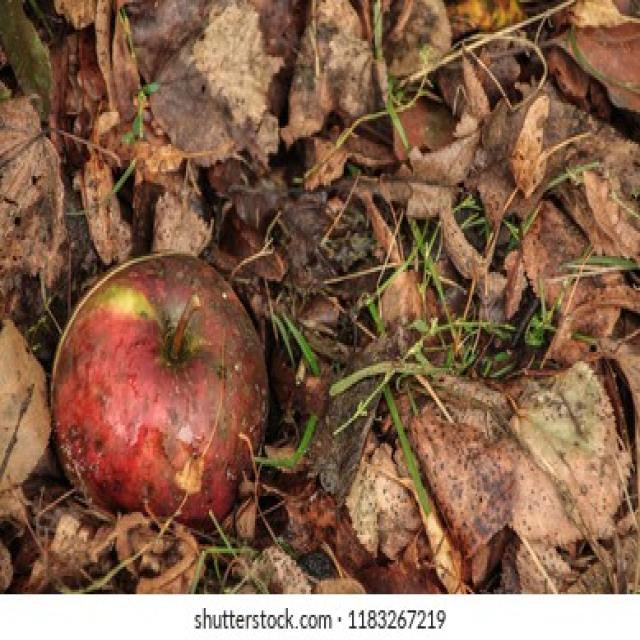apple_fruit: (47, 248, 281, 526)
